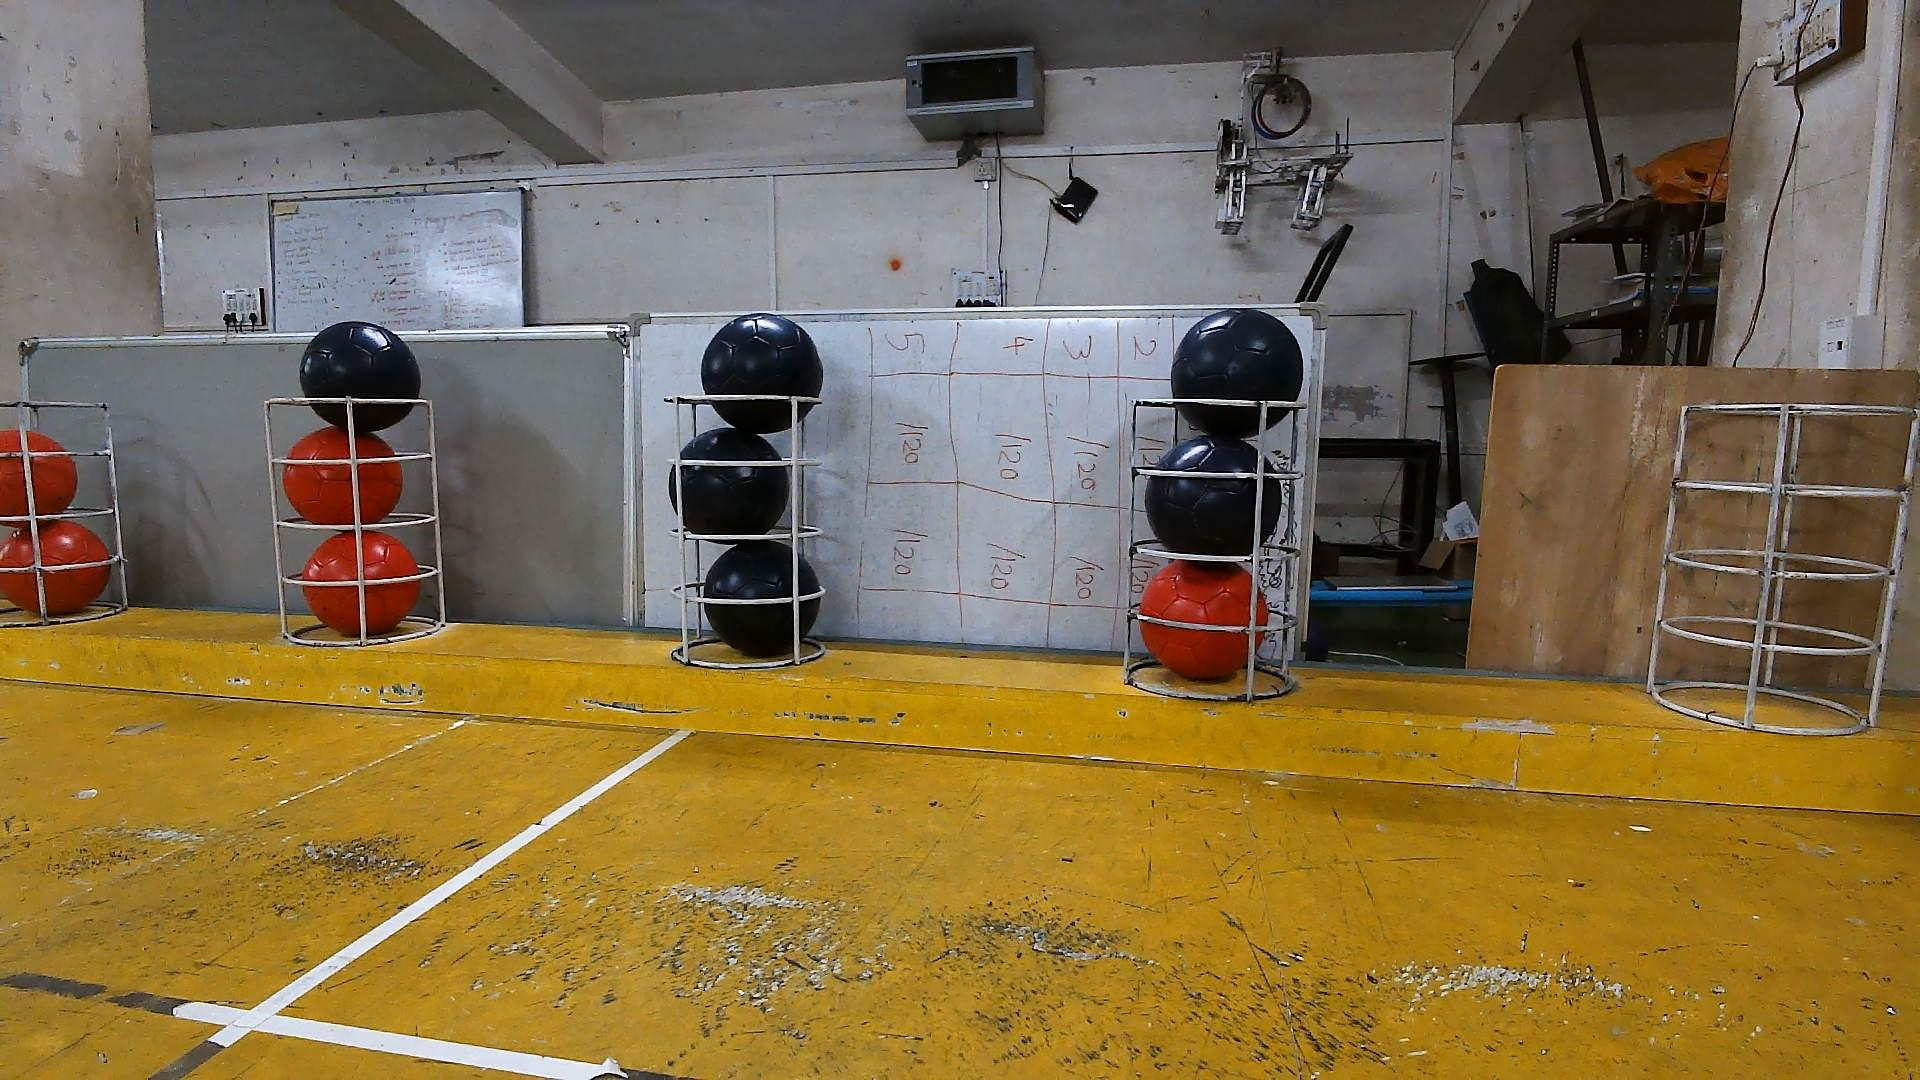dhoka: (1170, 307, 1305, 439), (1142, 431, 1286, 555), (702, 311, 825, 435), (702, 541, 822, 661), (667, 427, 791, 537), (301, 323, 419, 435)
laale: (1139, 560, 1255, 683), (307, 533, 427, 637), (285, 430, 405, 524), (0, 521, 108, 615), (0, 427, 79, 517)
